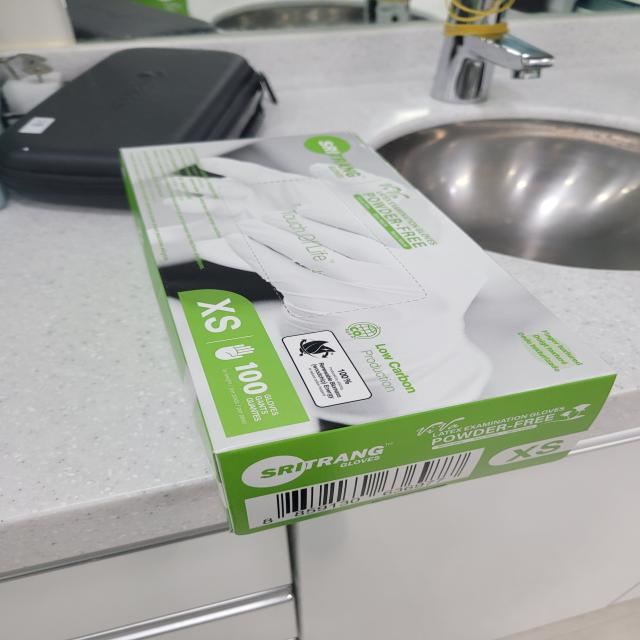glove: (97, 125, 622, 541)
